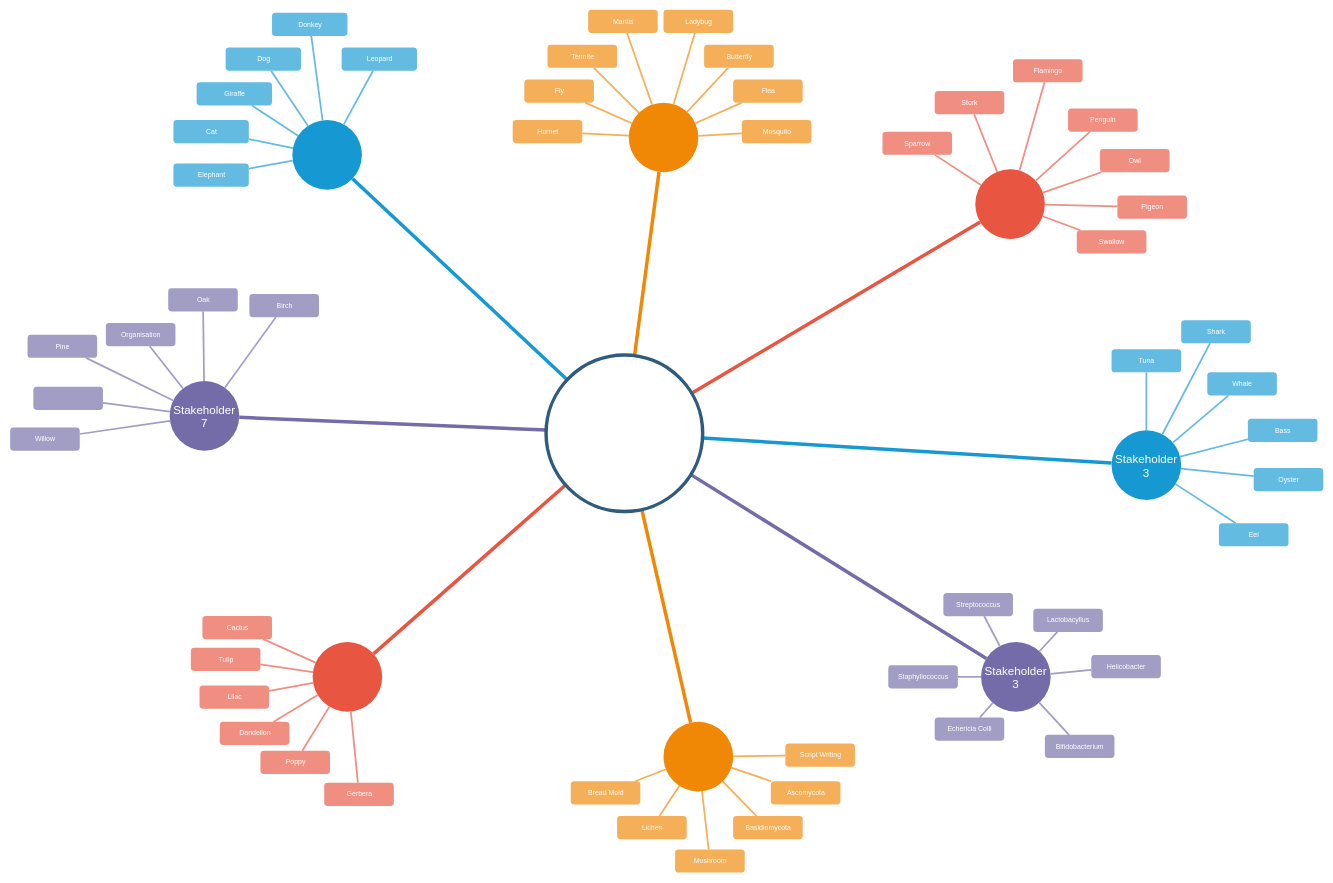
Image size: 1333x883. Some labels were removed from this diagram. Here are the shapes that lost their labels. From the top down, the box of each, then its label:
(292, 120, 362, 189): Stakeholder 6
(628, 102, 698, 172): Stakeholder 5
(975, 169, 1045, 239): Stakeholder 4
(33, 387, 103, 410): Acacia
(544, 353, 704, 513): Stakeholders
(312, 642, 382, 711): Stakeholder 1
(663, 722, 733, 791): Stakeholder 2
